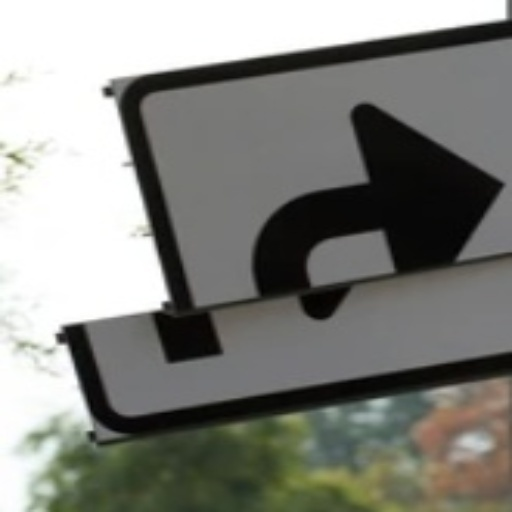Turn right: (136, 66, 487, 405)
